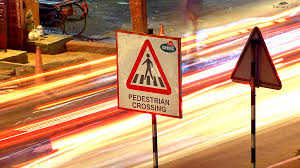pedestrian: (121, 36, 177, 95)
